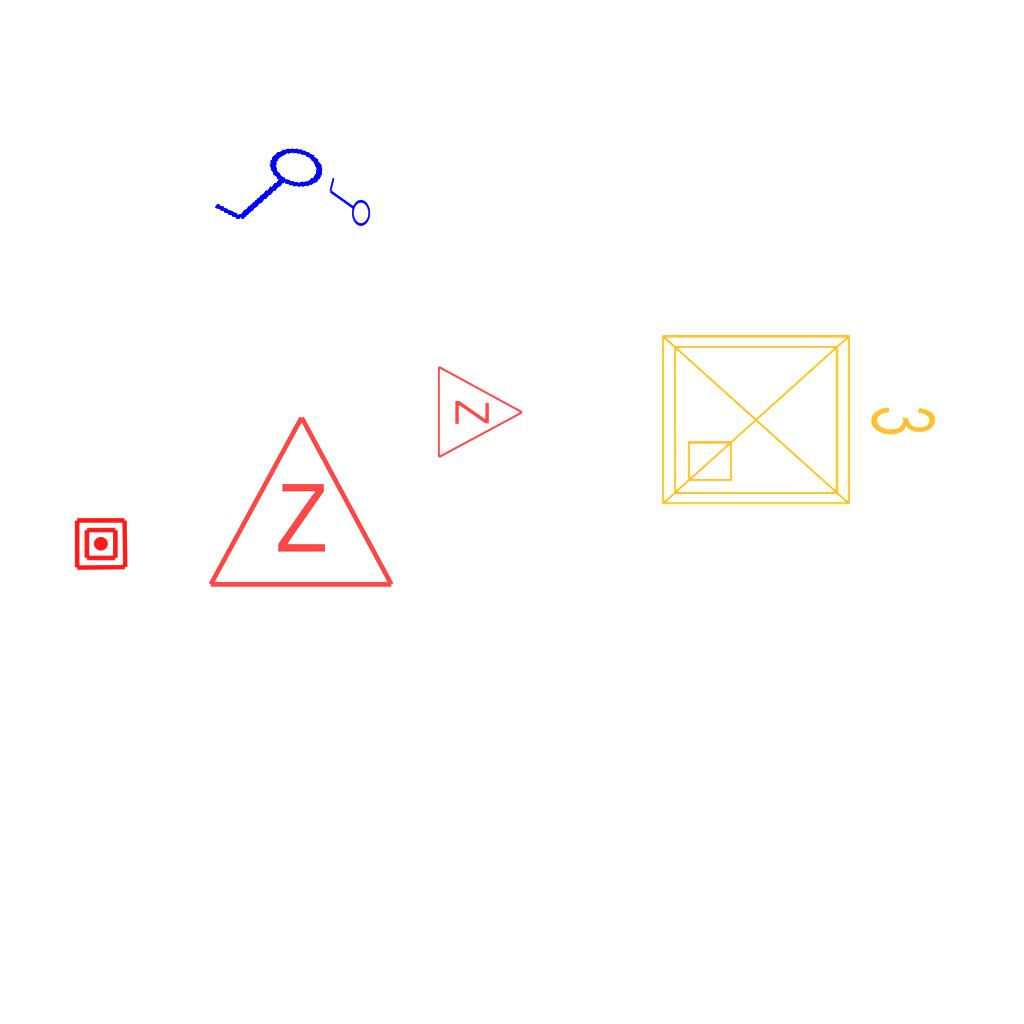Ausschalter: (207, 129, 339, 249), (324, 176, 372, 232)
Einbaudownlights_LED_Konferenzraeume: (647, 312, 947, 520)
NAM-Nichtautomatischer_Melder: (73, 516, 129, 572)
Zimmersignalleuchte: (201, 402, 397, 602), (430, 362, 530, 460)
